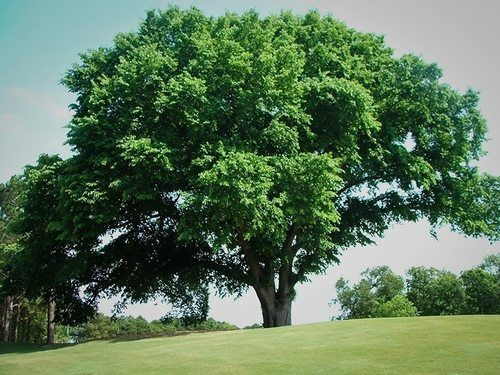tree: (57, 2, 493, 328)
